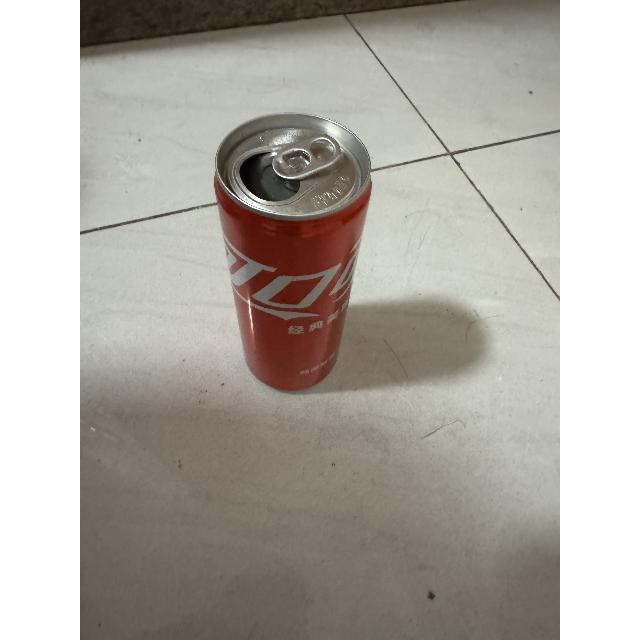coca-cola: (210, 109, 376, 399)
